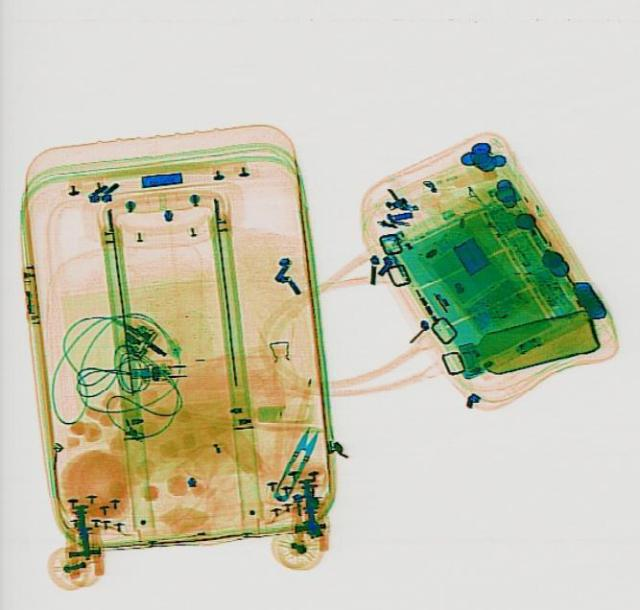Scissors: (267, 424, 321, 501)
